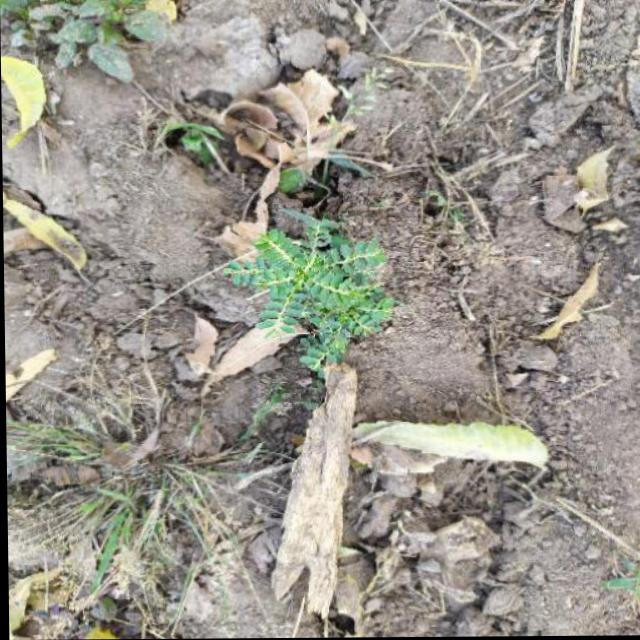weed: (32, 370, 260, 597), (227, 221, 404, 367)
